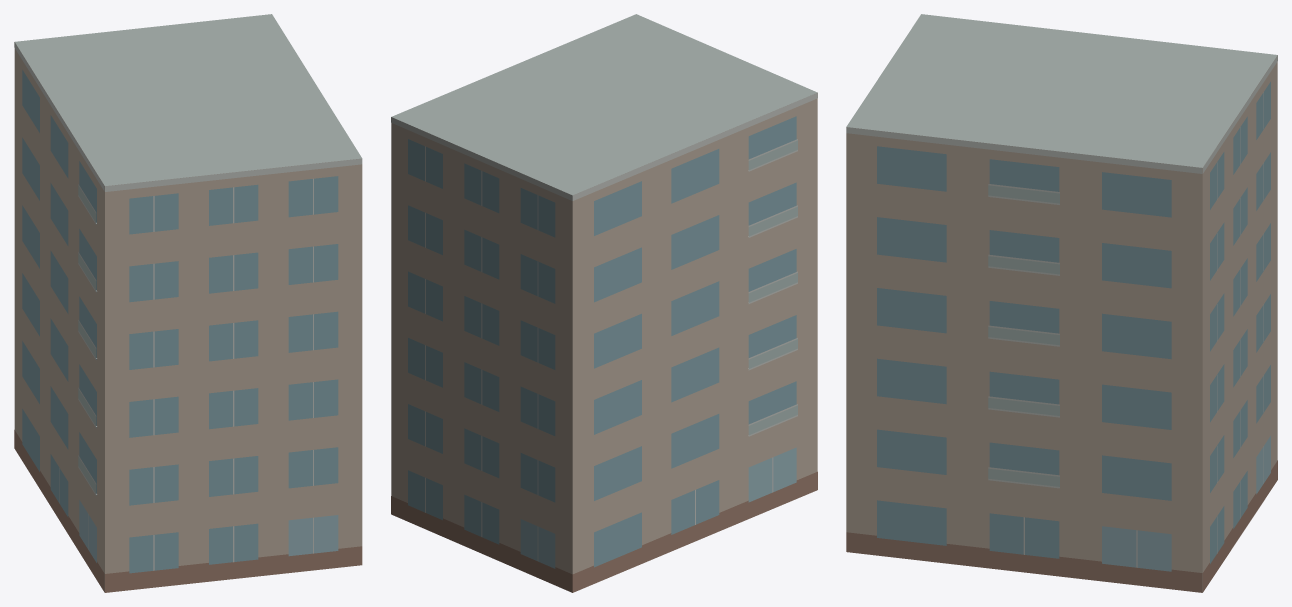
The model's file is survey-upis-32583976.glb.
The picture shows the model from 3 angles, left to right: view 1: azimuth 30°, elevation 25°; view 2: azimuth 150°, elevation 25°; view 3: azimuth 270°, elevation 25°; orthographic projection. The views are drawn at different scales.
Visible parts, largest first — view 1: survey-upis-32583976.tmp; view 2: survey-upis-32583976.tmp; view 3: survey-upis-32583976.tmp.
Part boxes in pixels (x1,y1,x2,y2): survey-upis-32583976.tmp: (14, 14, 362, 592); survey-upis-32583976.tmp: (391, 14, 817, 592); survey-upis-32583976.tmp: (846, 14, 1277, 592).
Size of the model in its own units: 13.06 by 16.8 by 15.47.
